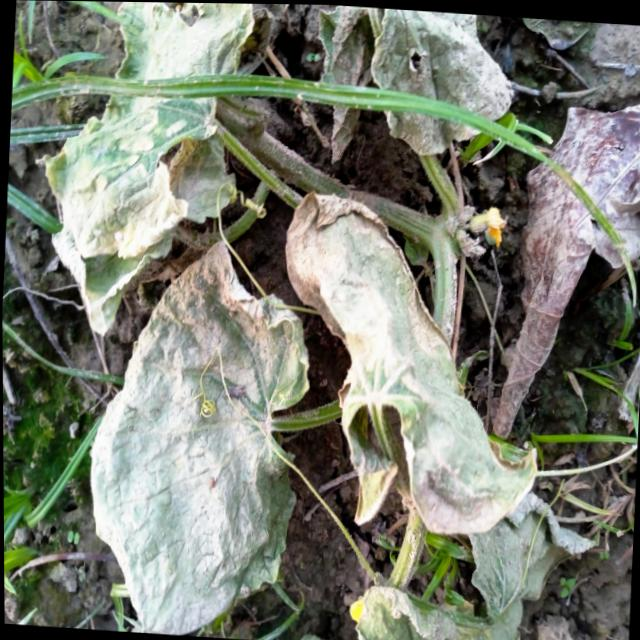Bacterial-Wilt: (280, 186, 538, 538), (86, 237, 310, 635)
